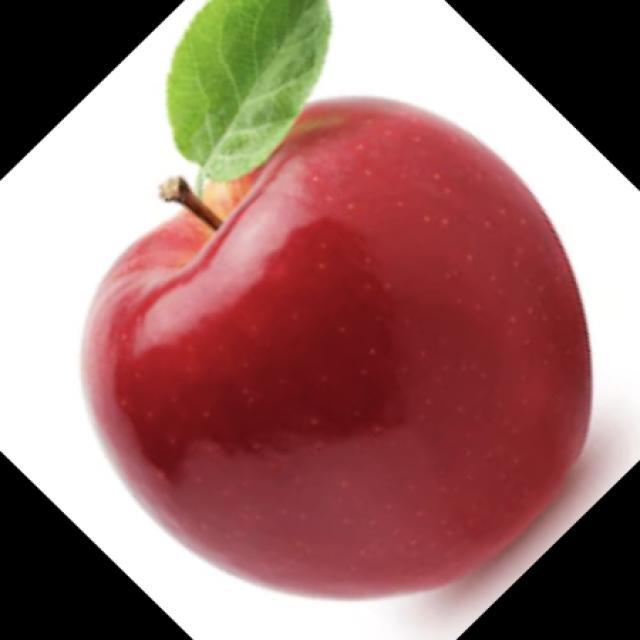Fresh Apple: (107, 106, 598, 572)
